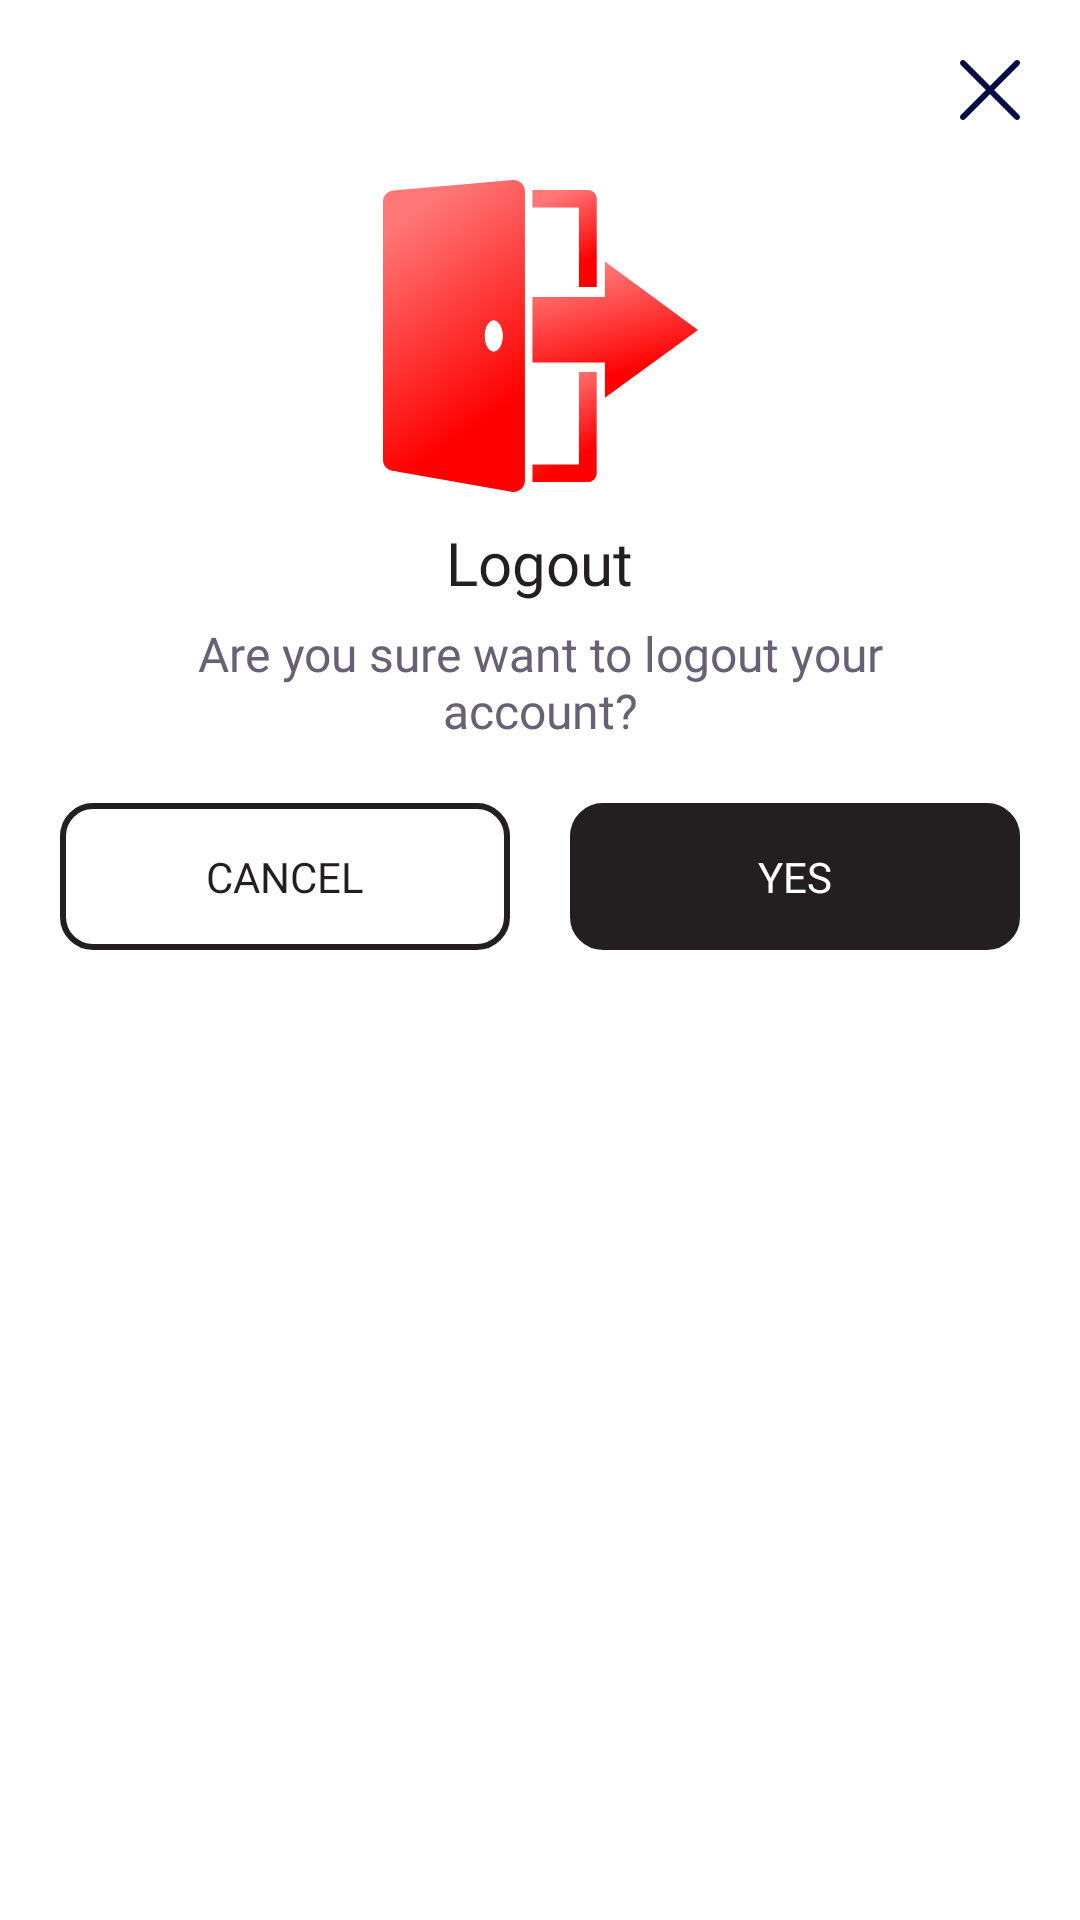

Named icons in this screenshot (1080px x 1920px) and their centers, [x,y]:
close: [990,90]
